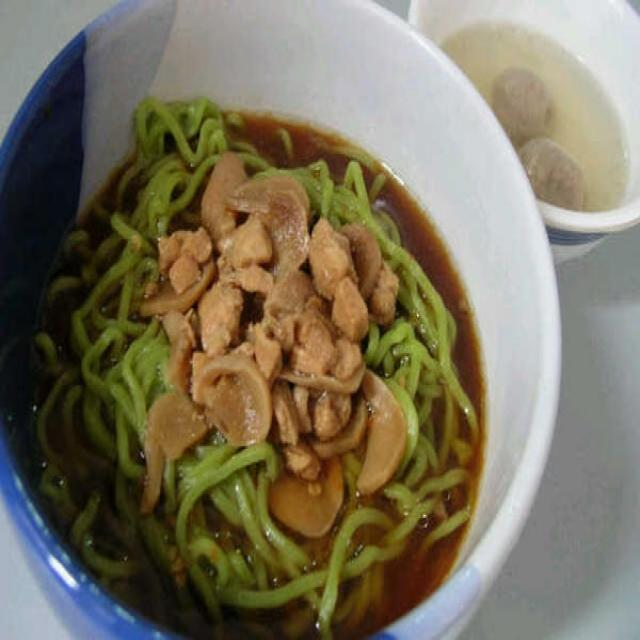面条主食: (12, 13, 558, 624)
